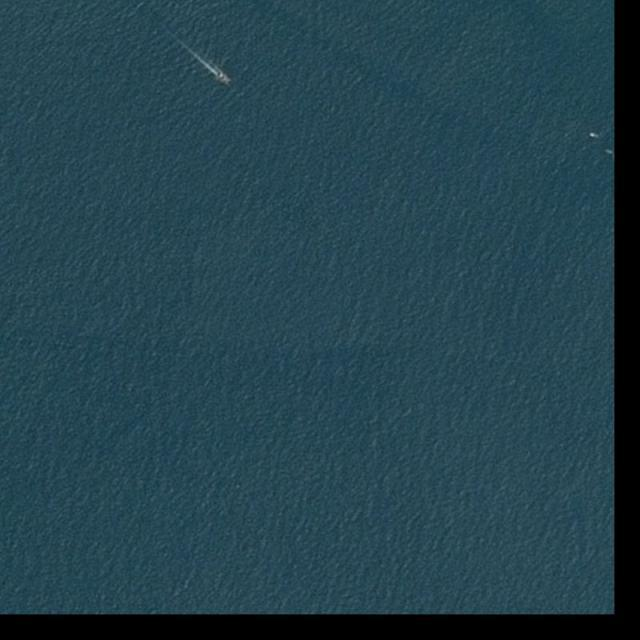ship: (218, 72, 231, 85), (588, 131, 601, 141), (604, 148, 614, 156)
